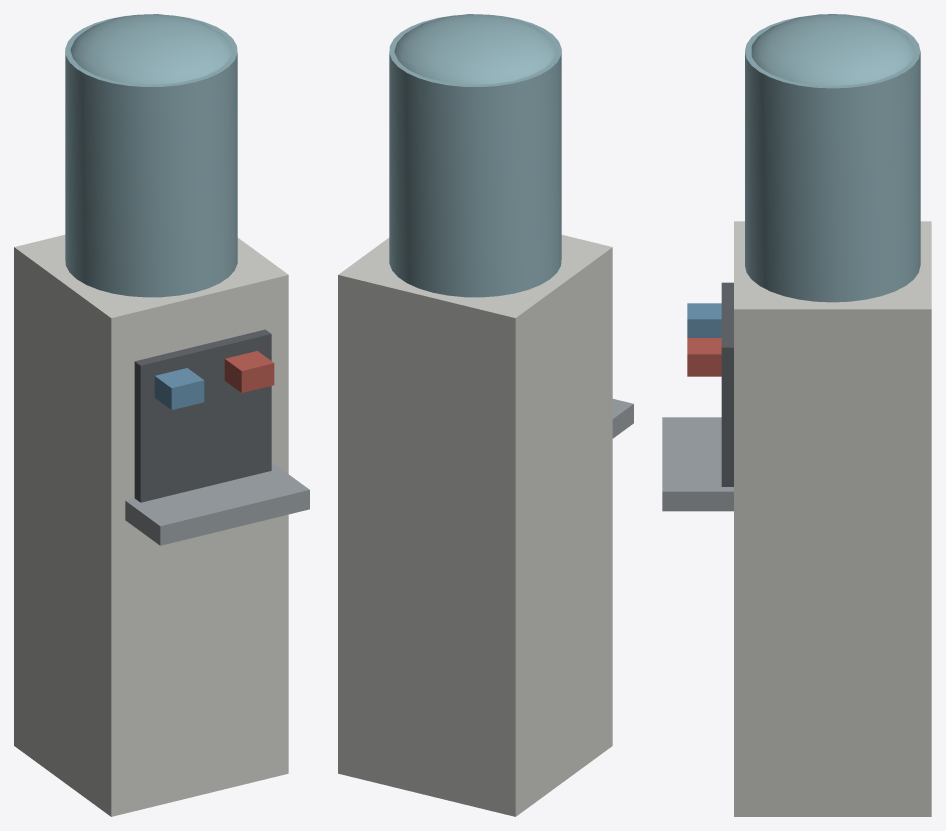
Rendered from water_cooler.glb.
The picture shows the model from 3 angles, left to right: view 1: azimuth 30°, elevation 25°; view 2: azimuth 150°, elevation 25°; view 3: azimuth 270°, elevation 25°; orthographic projection.
Parts seen in each view (by area): view 1: body_1, bottle_2, panel_4, bottle_top_3, drip_tray_7, tap_5, tap_6; view 2: body_1, bottle_2, bottle_top_3, drip_tray_7; view 3: body_1, bottle_2, bottle_top_3, drip_tray_7, panel_4, tap_6, tap_5.
Part boxes in pixels (bbox=[...]): body_1: bbox=[14, 235, 288, 816]; bottle_2: bbox=[65, 15, 237, 297]; panel_4: bbox=[134, 329, 271, 502]; bottle_top_3: bbox=[70, 14, 232, 97]; drip_tray_7: bbox=[125, 464, 309, 545]; tap_5: bbox=[154, 368, 204, 410]; tap_6: bbox=[224, 351, 274, 392]; body_1: bbox=[338, 235, 612, 816]; bottle_2: bbox=[389, 15, 561, 297]; bottle_top_3: bbox=[394, 14, 561, 97]; drip_tray_7: bbox=[612, 399, 633, 438]; body_1: bbox=[734, 221, 931, 816]; bottle_2: bbox=[745, 15, 920, 302]; bottle_top_3: bbox=[748, 14, 917, 93]; drip_tray_7: bbox=[662, 417, 733, 511]; panel_4: bbox=[721, 282, 733, 486]; tap_6: bbox=[687, 338, 721, 376]; tap_5: bbox=[687, 303, 721, 337].
Size of the model in its own units: 0.38 by 1.49 by 0.49.
